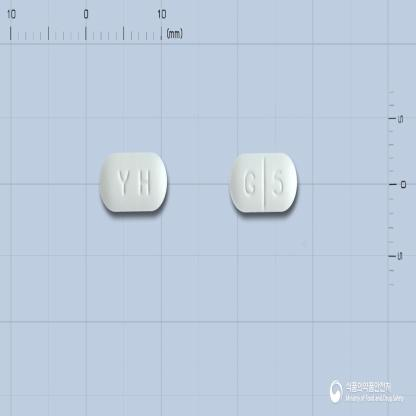pill: (98, 149, 167, 212), (228, 152, 298, 212)
